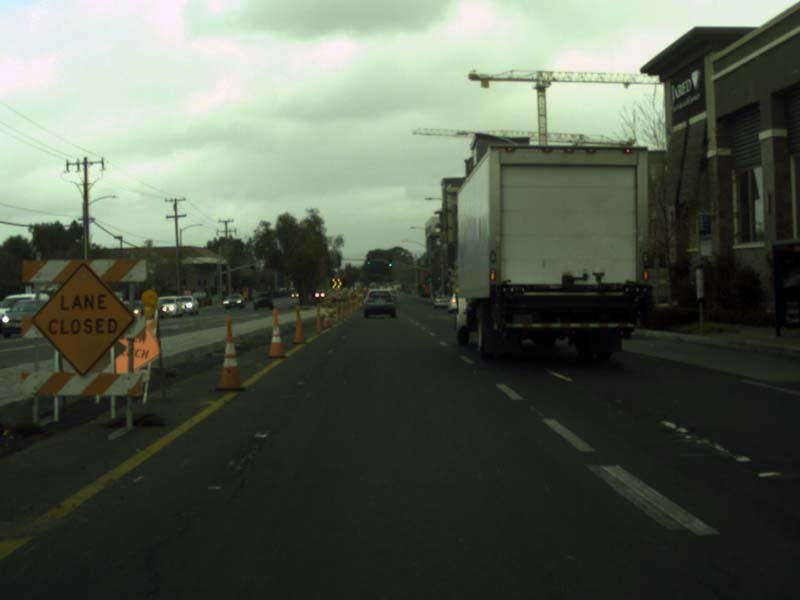Green: (428, 273, 431, 281), (437, 274, 440, 282), (388, 259, 391, 266), (367, 257, 369, 264)
